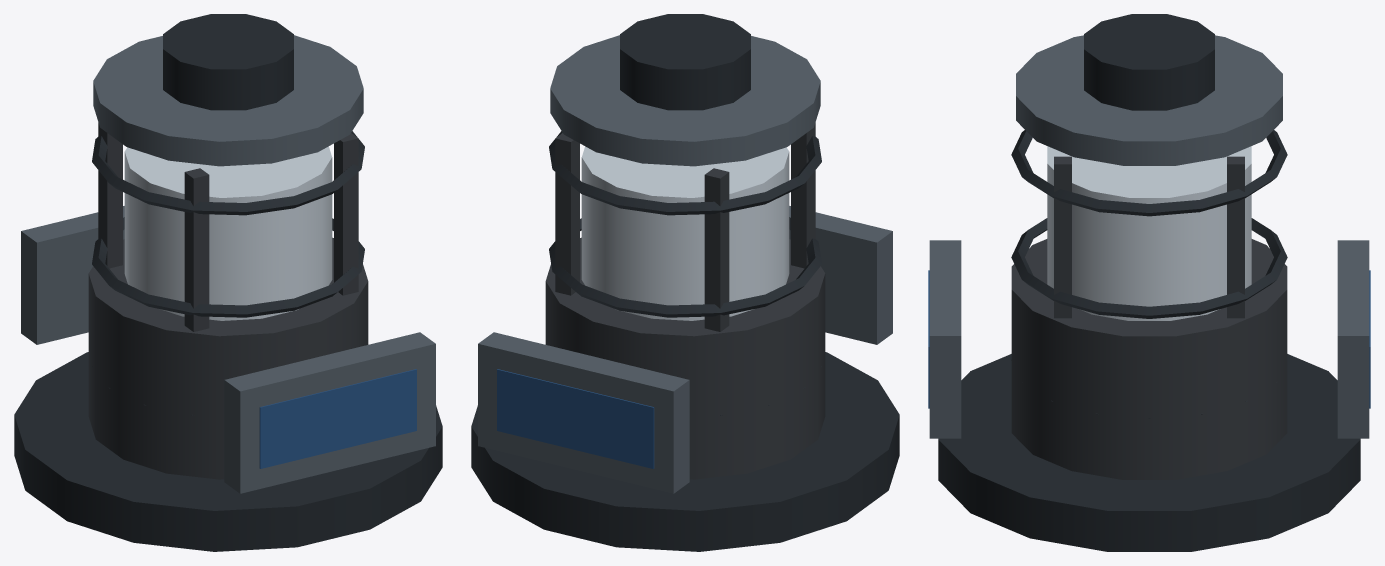
Rendered from mandalorian_reactor.glb.
3 renders of one model, left to right at view 1: azimuth 30°, elevation 25°; view 2: azimuth 150°, elevation 25°; view 3: azimuth 270°, elevation 25°, orthographic.
Visible parts, largest first — view 1: mandalorian_reactor; view 2: mandalorian_reactor; view 3: mandalorian_reactor.
Boxes of the visible parts, box(x1,y1,x2,y2) form: mandalorian_reactor: box(14, 14, 442, 551); mandalorian_reactor: box(471, 14, 899, 551); mandalorian_reactor: box(928, 14, 1370, 551).
Size of the model in its own units: 1.86 by 2.05 by 1.95.
